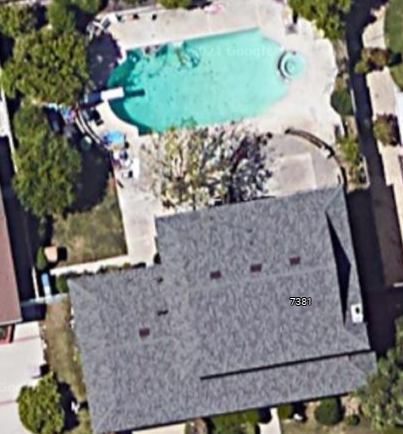poolww: (83, 19, 320, 137)
